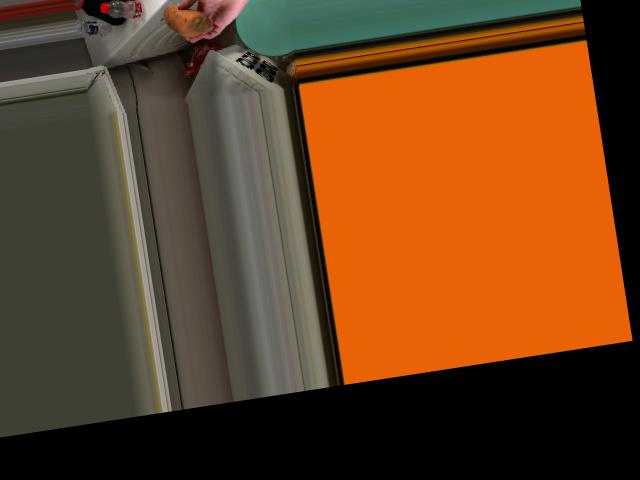sweet_potato: (163, 2, 208, 40)
